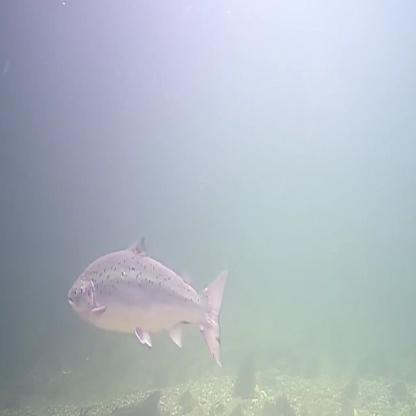salmon: (65, 228, 230, 369)
